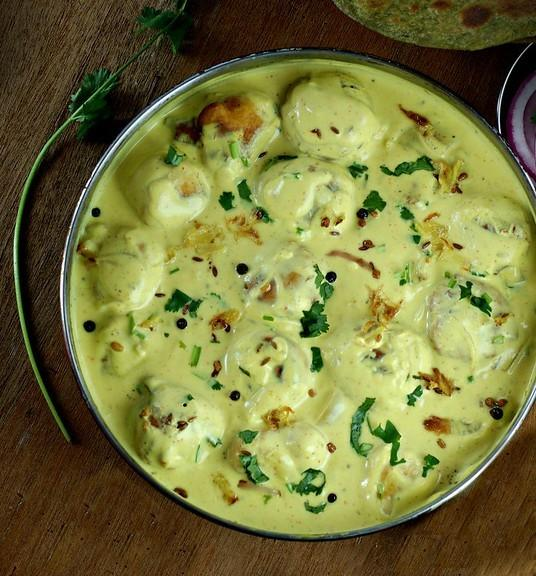RasMalai: (69, 56, 536, 535)
